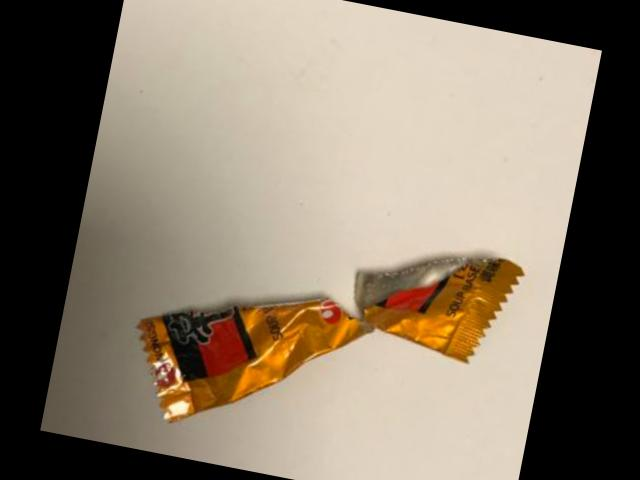cardboard paper: (139, 256, 523, 420)
